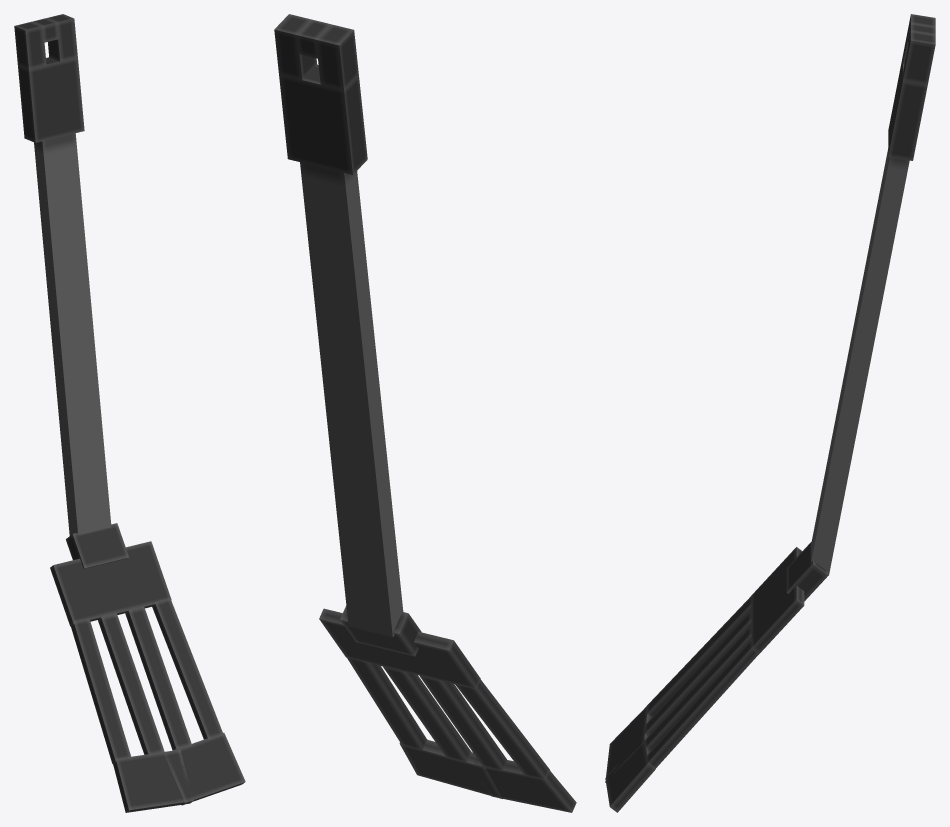
Rendered from spatula.fbx.
3 views of the same model, side by side, from view 1: azimuth 30°, elevation 25°; view 2: azimuth 150°, elevation 25°; view 3: azimuth 270°, elevation 25° (orthographic). The views are drawn at different scales.
Parts seen in each view (by area): view 1: cube, cuboid_4, cube_1, cuboid_5, cuboid_6, cuboid, cuboid_3, cuboid_1, cuboid_2, cuboid_7, cube_2, cube_3; view 2: cube, cube_1, cuboid_4, cuboid_2, cuboid, cuboid_1, cuboid_6, cuboid_5, cuboid_3, cube_2, cube_3, cuboid_7 (+1 smaller); view 3: cube, cuboid_4, cuboid_3, cube_1, cuboid, cuboid_6, cuboid_2, cuboid_1, cube_3, cuboid_5, cuboid_7.
Part boxes in pixels (x1,y1,x2,y2): cube: (34, 133, 111, 535); cuboid_4: (50, 541, 171, 626); cube_1: (18, 57, 84, 142); cuboid_5: (113, 749, 193, 812); cuboid_6: (164, 732, 245, 805); cuboid: (125, 607, 191, 750); cuboid_3: (152, 598, 223, 739); cuboid_1: (98, 613, 164, 755); cuboid_2: (71, 618, 131, 763); cuboid_7: (66, 523, 128, 568); cube_2: (14, 21, 46, 69); cube_3: (46, 14, 77, 61); cube: (300, 162, 403, 636); cube_1: (279, 64, 367, 174); cuboid_4: (319, 608, 480, 688); cuboid_2: (455, 680, 549, 780); cuboid: (383, 666, 471, 762); cuboid_1: (419, 675, 507, 771); cuboid_6: (399, 739, 502, 799); cuboid_5: (474, 758, 576, 812); cuboid_3: (346, 656, 427, 749); cube_2: (316, 24, 358, 90); cube_3: (274, 14, 317, 79); cuboid_7: (340, 606, 421, 656); cube: (811, 148, 909, 575); cuboid_4: (751, 547, 804, 653); cuboid_3: (646, 639, 758, 767); cube_1: (888, 56, 927, 160); cuboid: (644, 626, 751, 750); cuboid_6: (605, 738, 655, 812); cuboid_2: (647, 596, 751, 717); cuboid_1: (645, 611, 751, 736); cube_3: (903, 31, 935, 84); cuboid_5: (605, 705, 651, 782); cuboid_7: (786, 542, 828, 601).
Bounding box in the file's own units: 92.94 × 520 × 205.
Materials: 1 (1 with a texture image).
